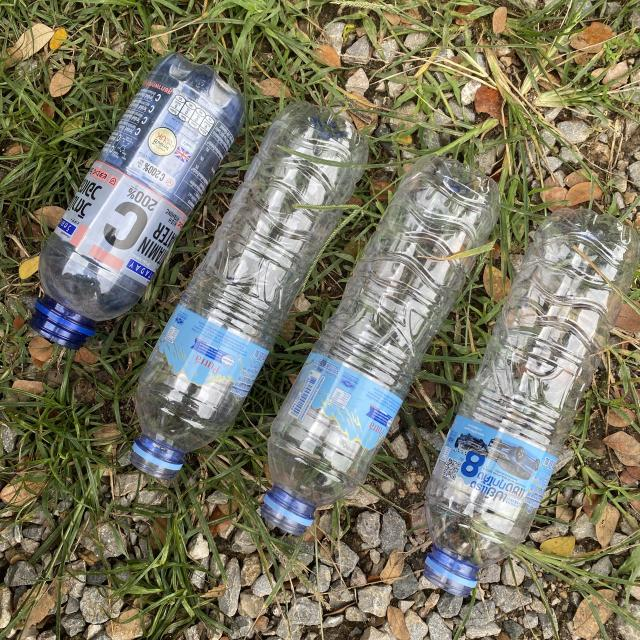plastik: (261, 155, 500, 535), (130, 102, 368, 479), (424, 209, 640, 596), (30, 54, 245, 349)
